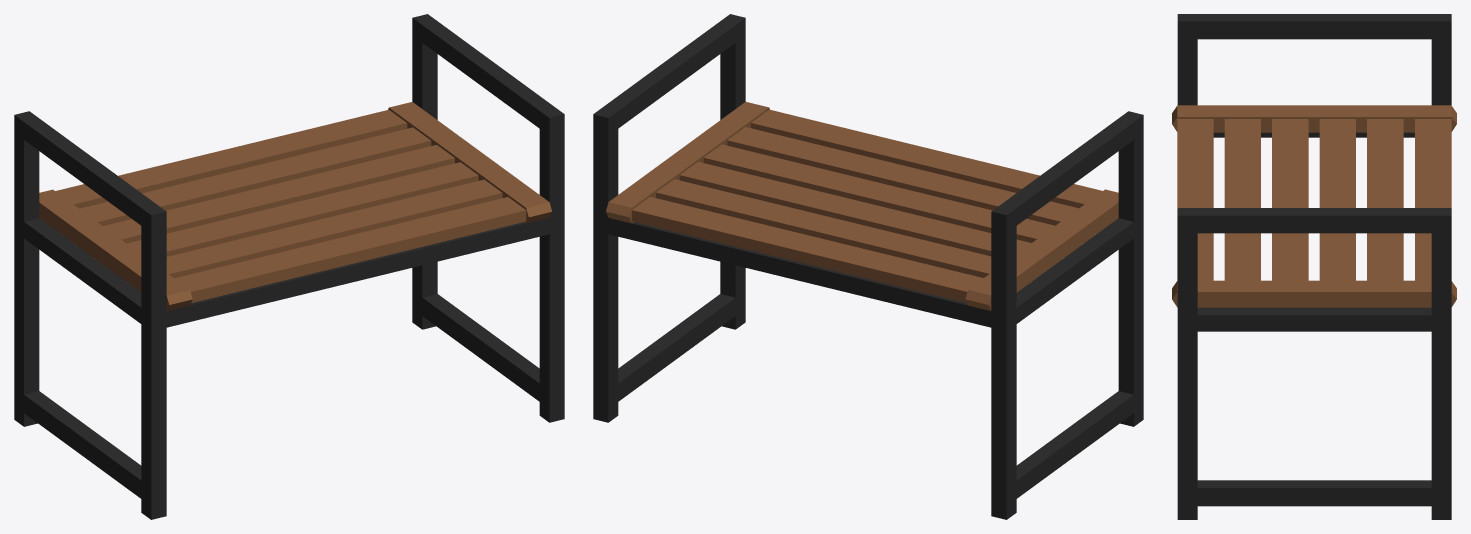
Rendered from furniture-bench-outside-modern.glb.
The picture shows the model from 3 angles, left to right: view 1: azimuth 30°, elevation 25°; view 2: azimuth 150°, elevation 25°; view 3: azimuth 270°, elevation 25°; orthographic projection.
Parts seen in each view (by area): view 1: bench-outside-modern; view 2: bench-outside-modern; view 3: bench-outside-modern.
Part boxes in pixels (box(x1,y1,x2,y2)): bench-outside-modern: box(14, 14, 564, 519); bench-outside-modern: box(593, 14, 1143, 519); bench-outside-modern: box(1172, 14, 1456, 519).
Bounding box in the file's own units: 1.08 × 0.7604 × 0.6445.
